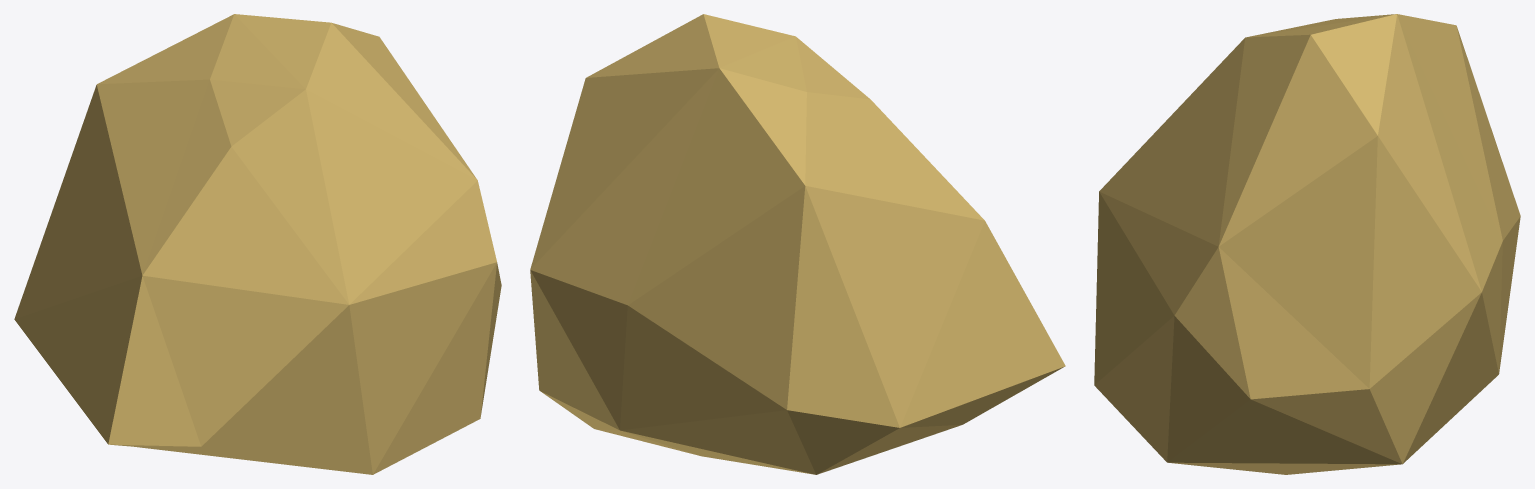
File: desert_rock2.obj
3 views of the same model, side by side, from view 1: azimuth 30°, elevation 25°; view 2: azimuth 150°, elevation 25°; view 3: azimuth 270°, elevation 25° (orthographic). The views are drawn at different scales.
Size of the model in its own units: 2.78 by 2.43 by 2.29.
